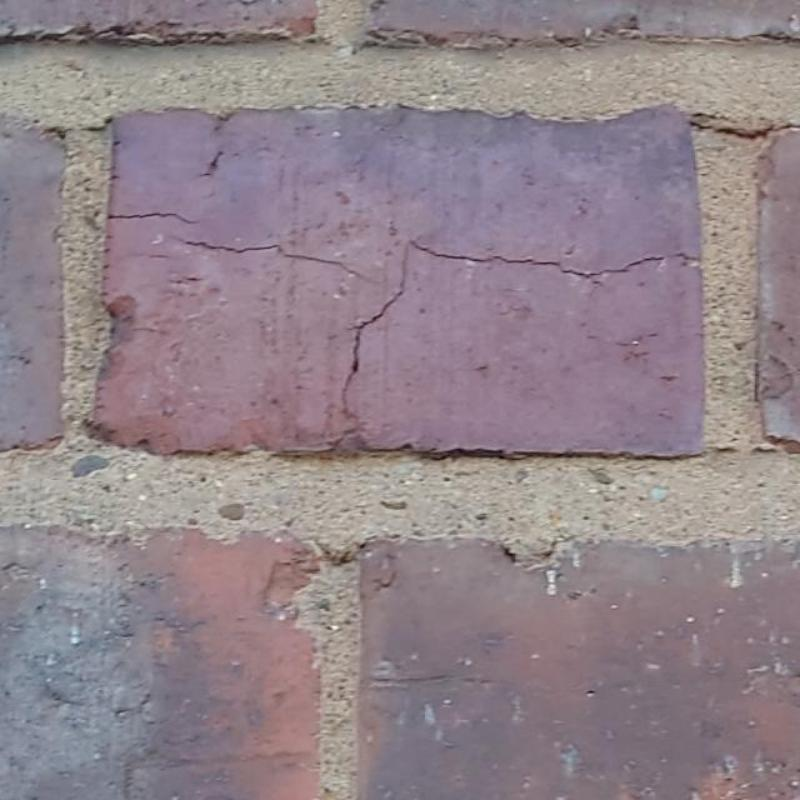crack: (410, 239, 698, 279), (340, 289, 404, 424), (183, 240, 364, 277), (688, 120, 800, 142), (107, 210, 201, 225)
